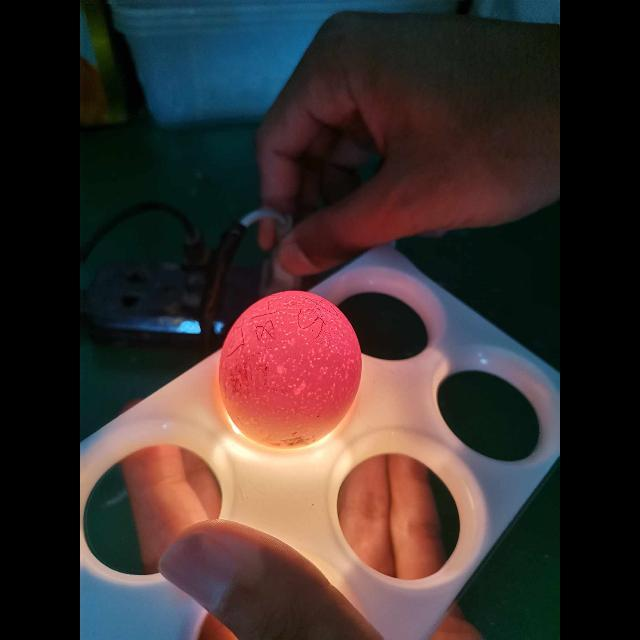Infertile: (222, 288, 362, 439)
